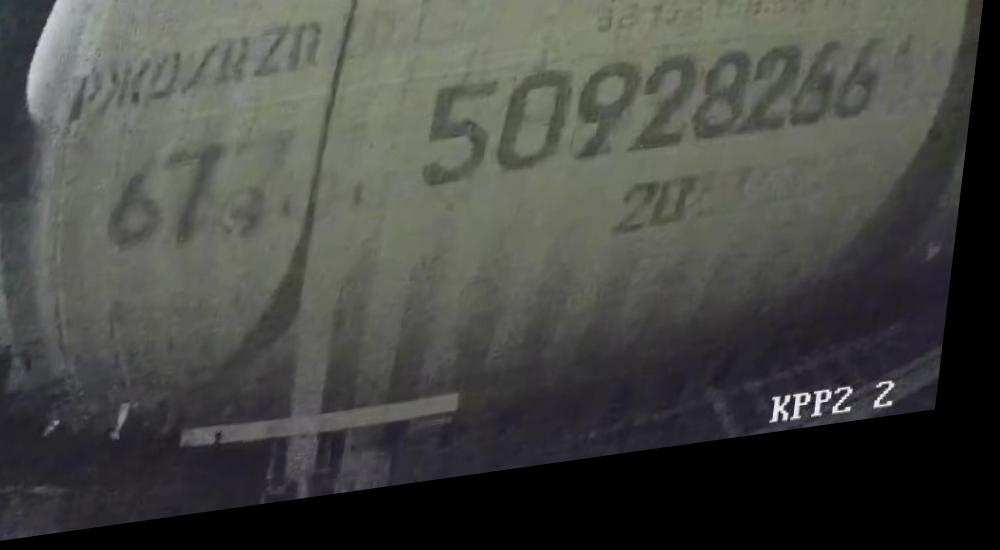Wagon-number: (421, 40, 897, 205)
